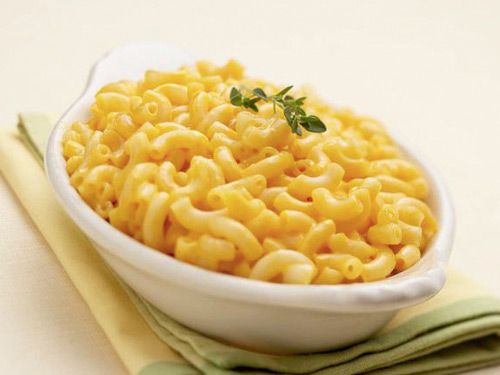macncheese: (62, 57, 433, 283)
